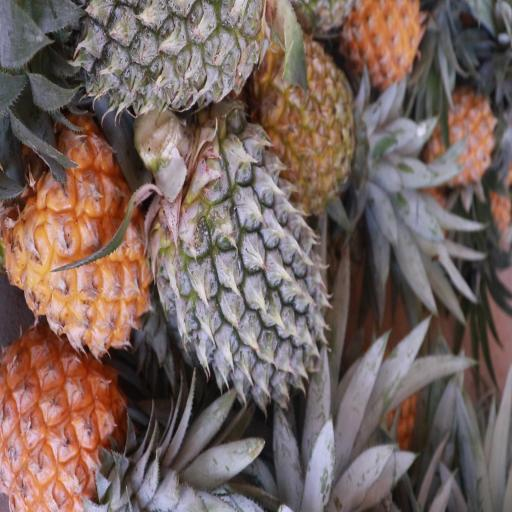------------------------------: (259, 37, 352, 204)
Pineapple - v8 v1: (5, 129, 148, 346), (0, 347, 130, 511), (344, 0, 422, 90), (423, 87, 494, 183)
